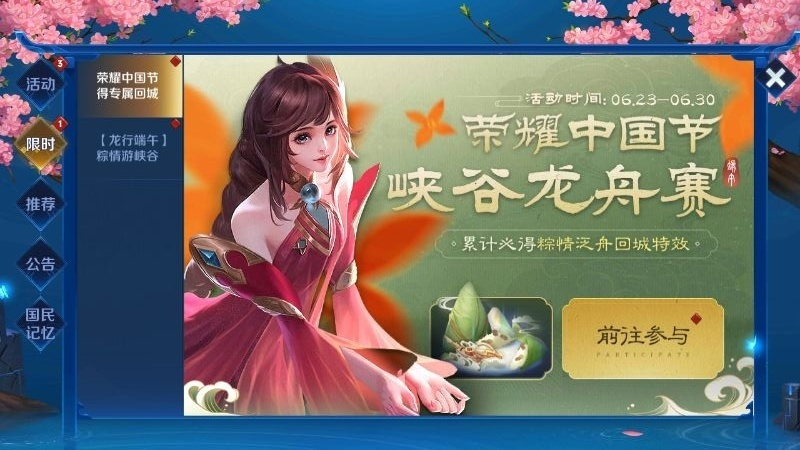close: (760, 61, 791, 90)
tag: (88, 126, 172, 166), (19, 303, 60, 342), (15, 248, 60, 278), (20, 189, 60, 217), (21, 68, 57, 98)
